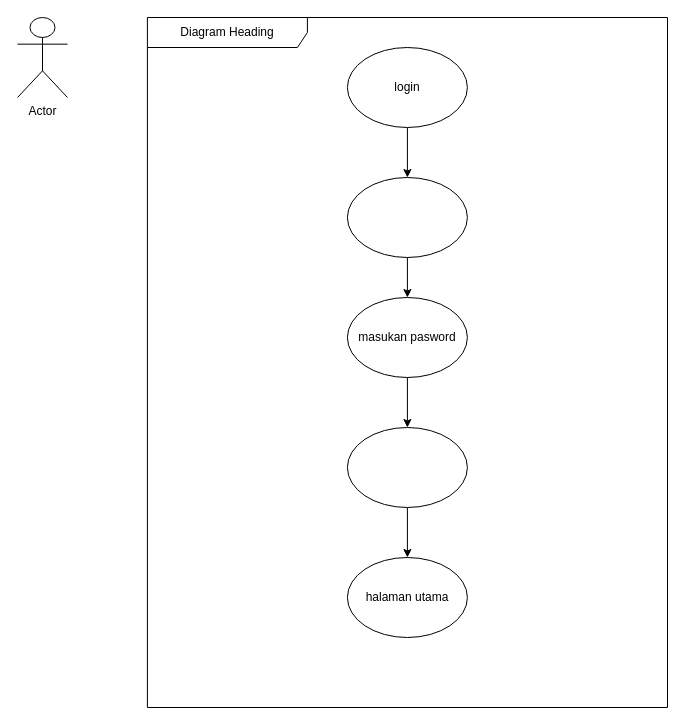
Some shapes in this 685 by 725 pixel diagram are drawn without their labels. The shapes that lost their labels are listed below. From the top down, each one's box as (x1, y1, x2, y2) in pixels, then its label:
(346, 176, 467, 258): masukan username
(346, 426, 467, 508): verifikasi akun
